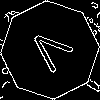V: (25, 25, 82, 80)
